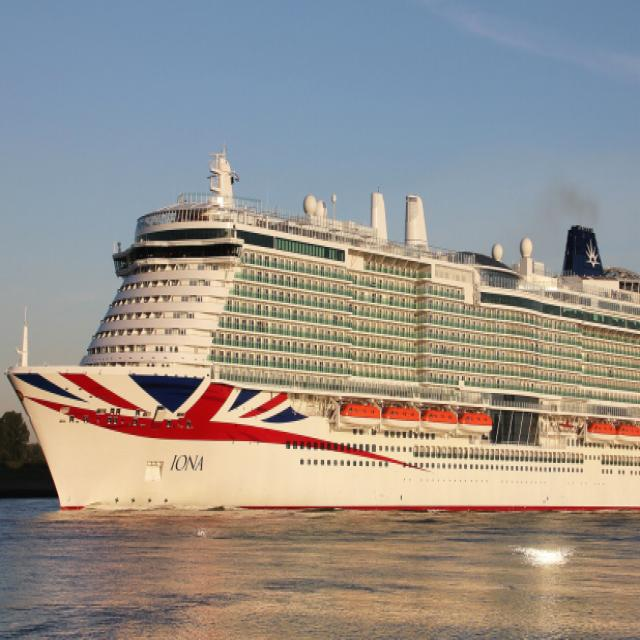cruises: (6, 139, 640, 528)
